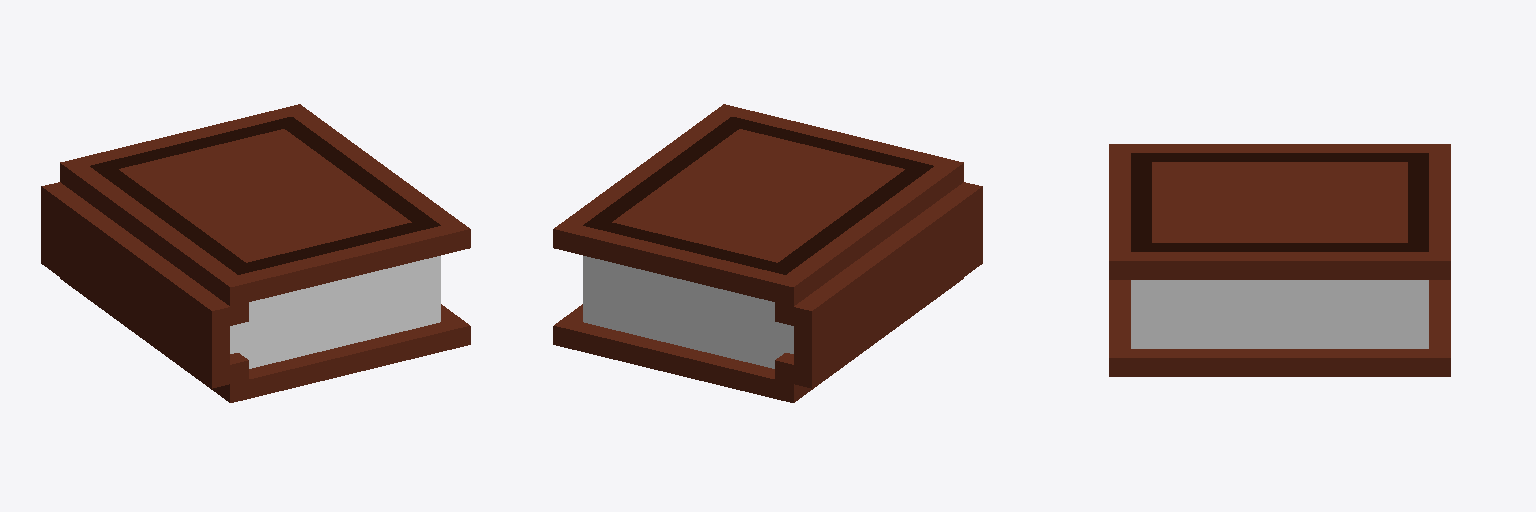
The picture shows the model from 3 angles: view 1: azimuth 30°, elevation 25°; view 2: azimuth 150°, elevation 25°; view 3: azimuth 270°, elevation 25°; orthographic projection.
Visible parts, largest first — view 1: object 1; view 2: object 1; view 3: object 1.
Part boxes in pixels (x1,y1,x2,y2): object 1: (41, 104, 470, 402); object 1: (553, 104, 982, 402); object 1: (1109, 144, 1450, 376).
Size of the model in its own units: 1.4 by 0.6 by 1.6.
1 materials, 1 textured.